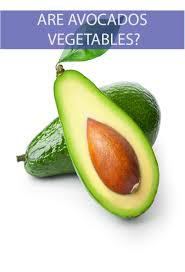aguacate: (48, 65, 163, 221)
